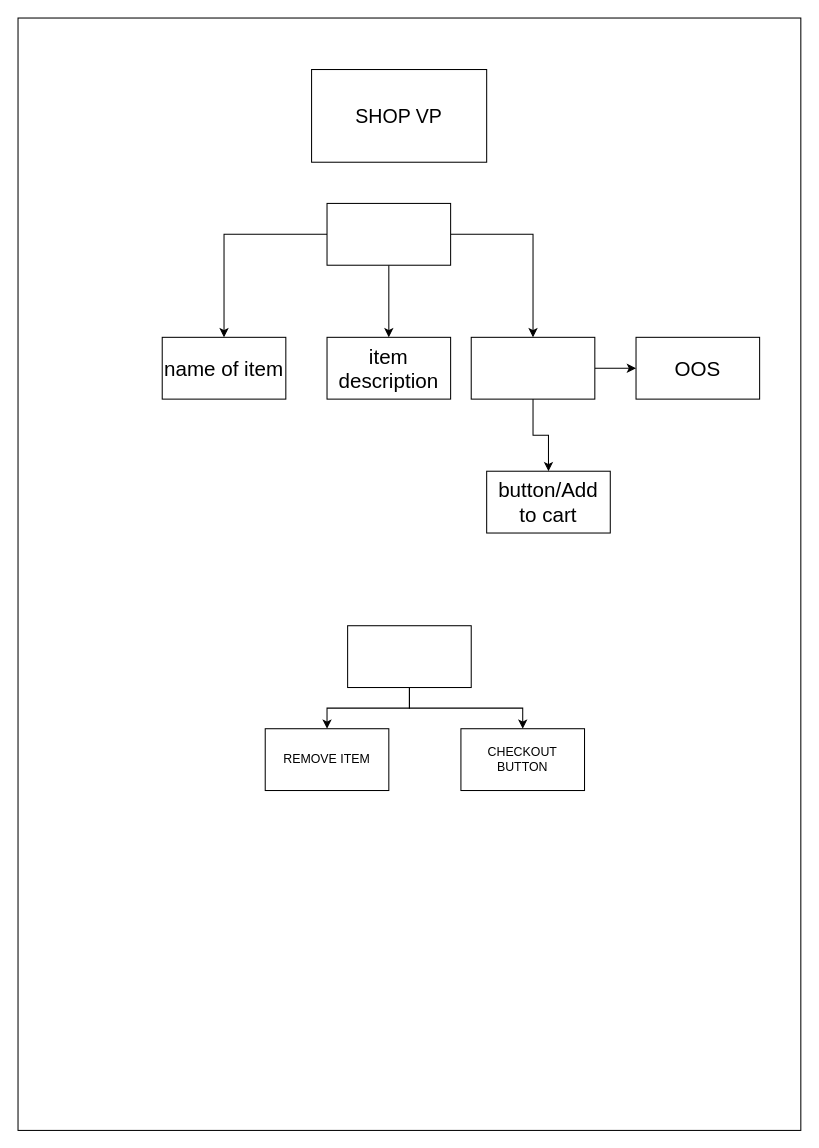
Image size: 819x1148. Some labels were removed from this diagram. The shapes that lost their labels are listed below. From the top down, each one's box as (x1, y1, x2, y2) in pixels, then its label:
(326, 202, 451, 265): merch
(470, 336, 595, 399): Stock /Qty
(347, 625, 471, 688): CART
